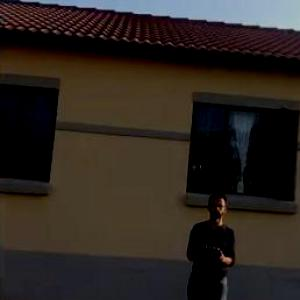follow: (181, 184, 241, 299)
